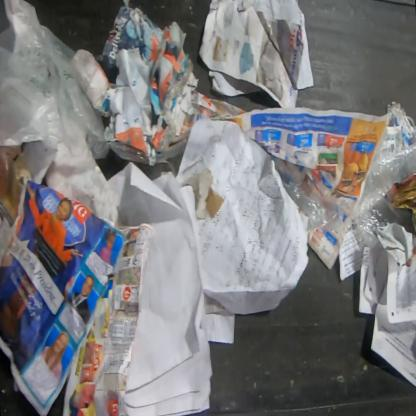cardboard: (70, 6, 205, 168), (0, 145, 33, 227)
soft_plastic: (0, 0, 150, 167), (349, 130, 416, 251), (278, 172, 345, 234), (156, 135, 189, 164)
